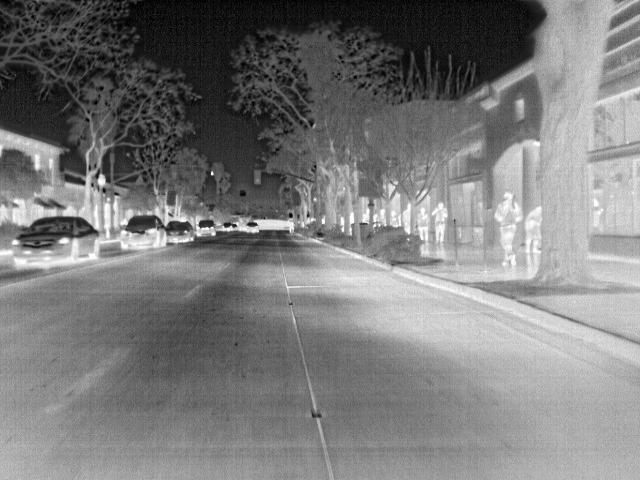car: (8, 215, 101, 267), (116, 213, 169, 253), (164, 219, 197, 245), (200, 220, 218, 239), (220, 222, 236, 232), (244, 222, 259, 232)
person: (493, 190, 520, 270), (523, 204, 543, 256), (431, 202, 451, 248), (416, 206, 430, 246), (400, 202, 412, 236)
